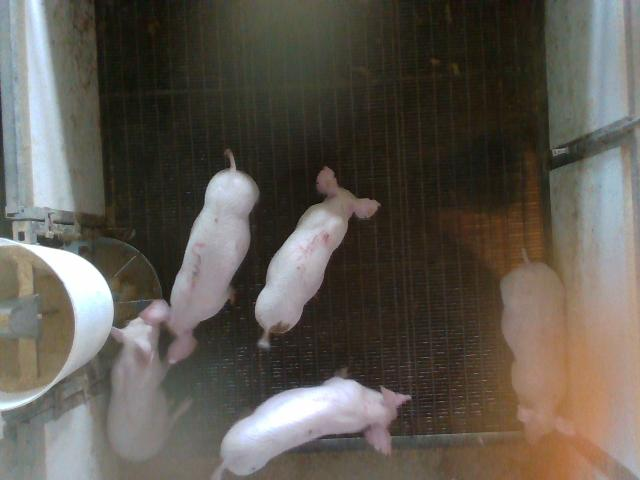pig-3: (139, 152, 259, 363)
pig-5: (255, 166, 380, 348)
